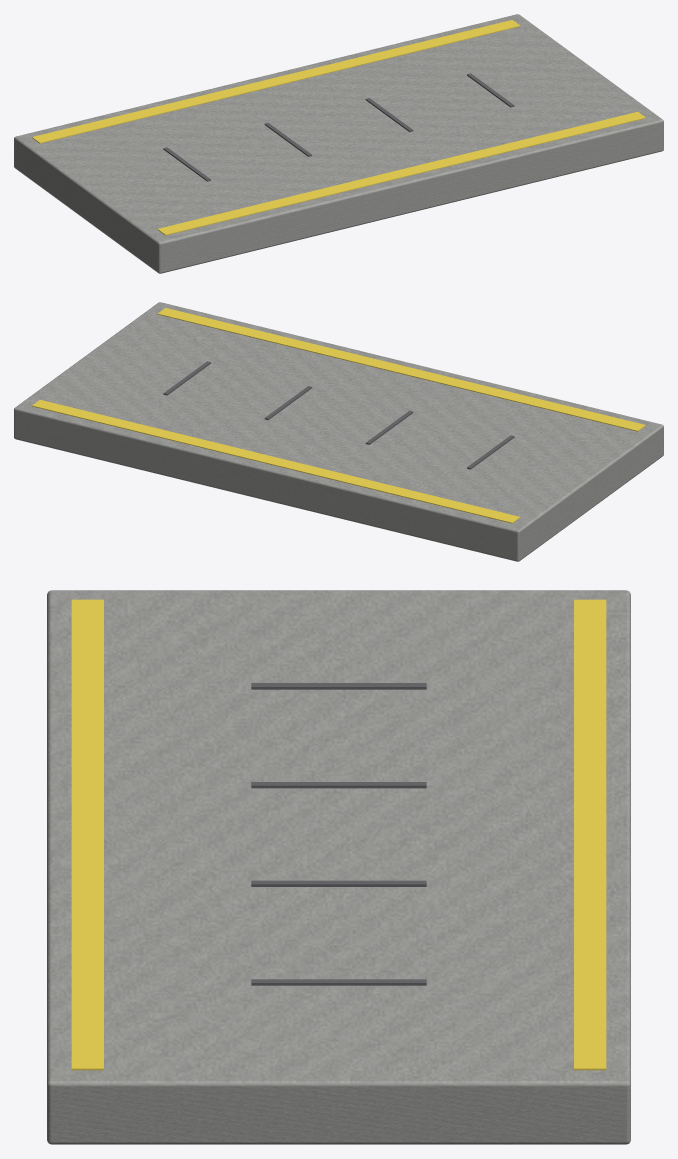
Rendered from prison-complex-builder-patrol-path-tile-5c142faf__25652.glb.
3 views of the same model, one above another, from view 1: azimuth 30°, elevation 25°; view 2: azimuth 150°, elevation 25°; view 3: azimuth 270°, elevation 25° (orthographic). The views are drawn at different scales.
Visible parts, largest first — view 1: patrol-path-tile; view 2: patrol-path-tile; view 3: patrol-path-tile.
Boxes of the visible parts, box(x1,y1,x2,y2) form: patrol-path-tile: box(14, 14, 663, 273); patrol-path-tile: box(14, 302, 663, 561); patrol-path-tile: box(47, 590, 630, 1144).
Bounding box in the file's own units: 2 × 0.125 × 1.
3 materials, 1 textured.
